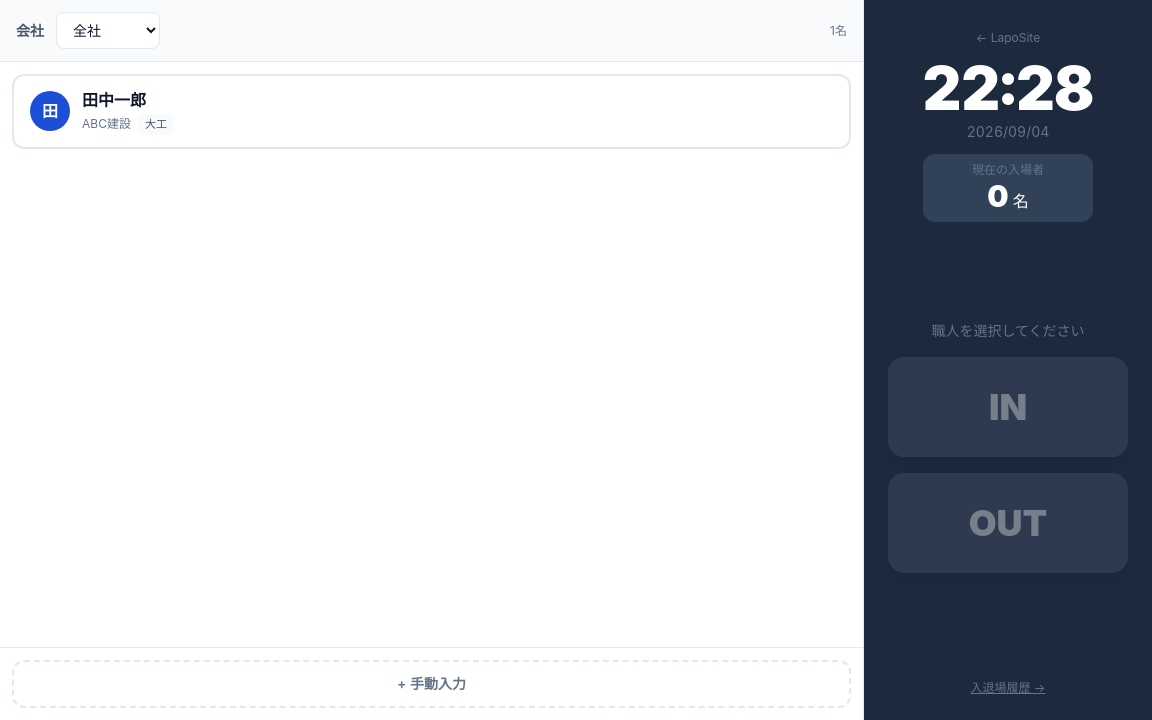
Test case: SiteEntryPage › selecting a worker enables IN button
Click the text "田中一郎" at (114, 100), box [82, 90, 146, 110]
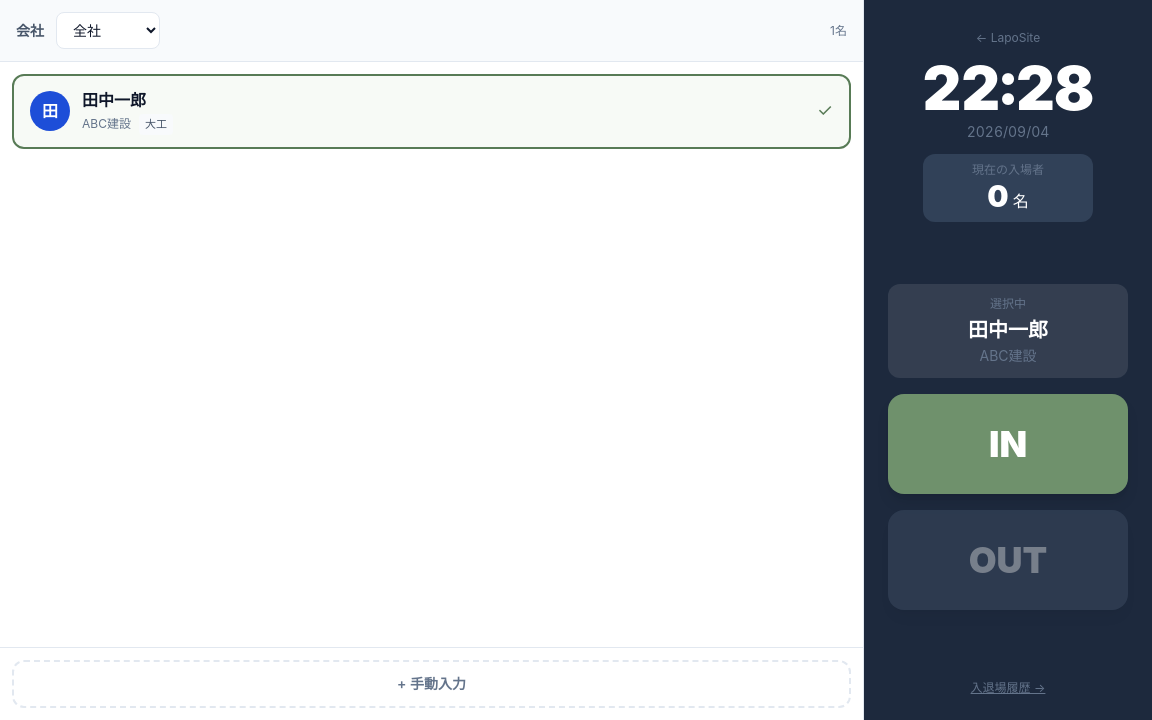
Expected: the button "IN" is enabled, [888, 394, 1128, 494]
